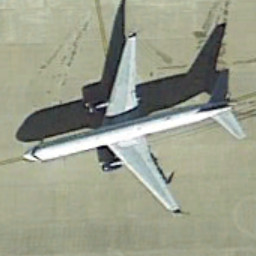Airplane: (17, 27, 252, 222)
